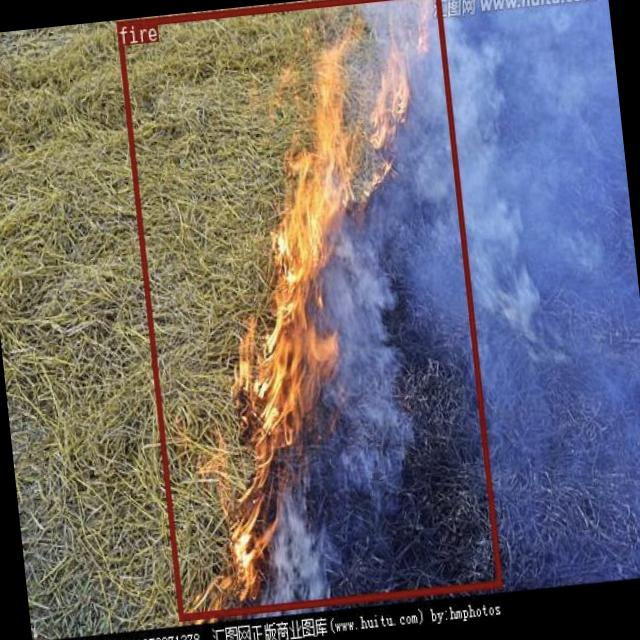fire: (115, 0, 501, 619)
